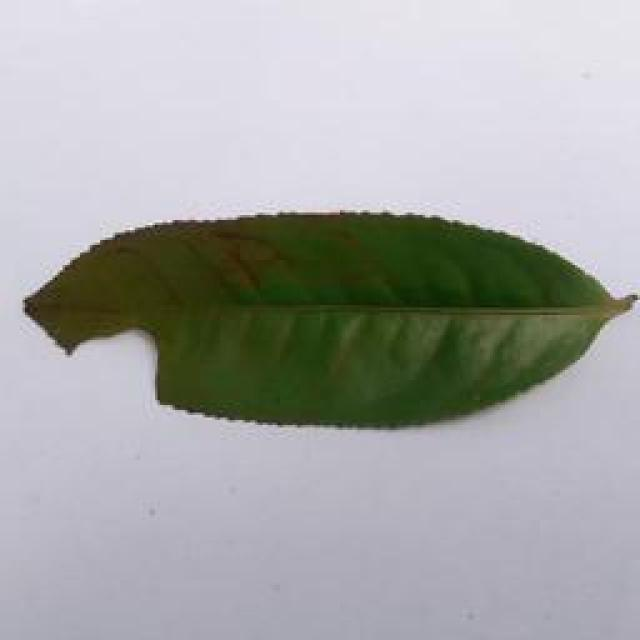Red Leaf Spot: (20, 178, 640, 440)
